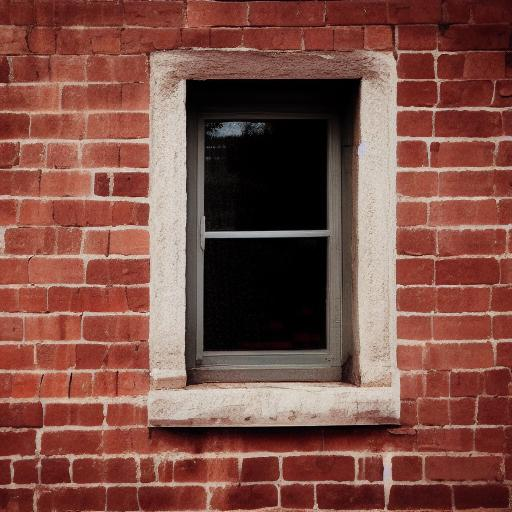Window: (146, 56, 403, 426)
